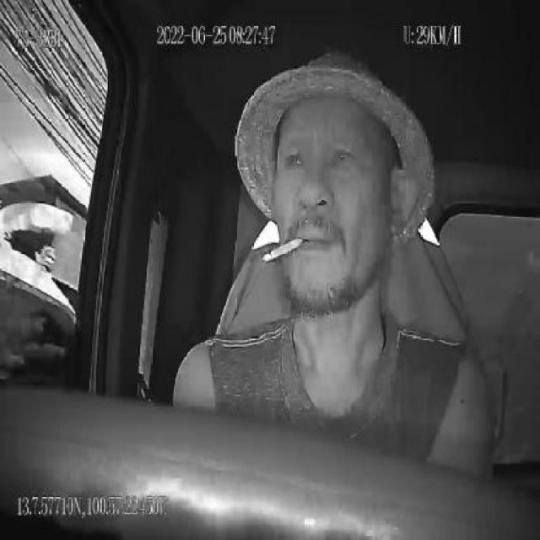smoking: (260, 234, 304, 266)
